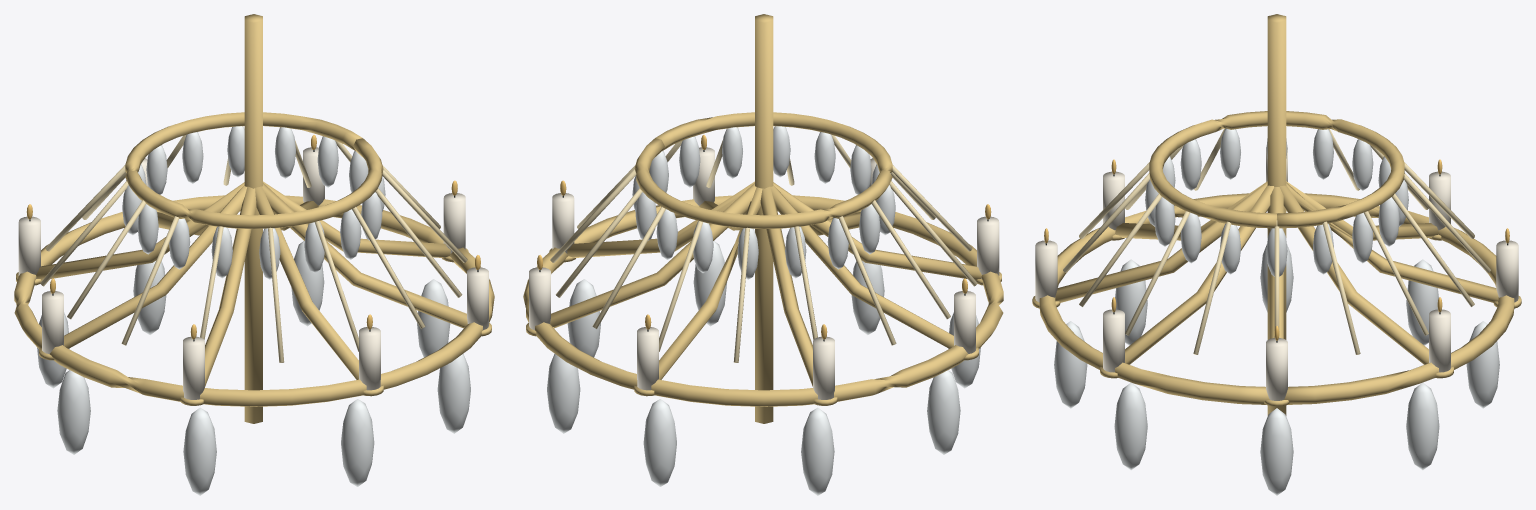
Rendered from crystal-chandelier.glb.
The picture shows the model from 3 angles, left to right: view 1: azimuth 30°, elevation 25°; view 2: azimuth 150°, elevation 25°; view 3: azimuth 270°, elevation 25°; orthographic projection.
Parts seen in each view (by area): view 1: frame-0, crystals-5, chains-6, wax-1, base-2, flame-4; view 2: frame-0, crystals-5, chains-6, wax-1, base-2, flame-4; view 3: frame-0, crystals-5, chains-6, wax-1, base-2.
Part boxes in pixels (x1,y1,x2,y2): frame-0: (14,14,494,423); crystals-5: (37,126,470,495); chains-6: (40,134,467,362); wax-1: (18,147,488,399); base-2: (16,248,491,405); flame-4: (26,135,480,339); frame-0: (523,14,1003,423); crystals-5: (547,126,980,495); chains-6: (550,134,977,362); wax-1: (529,147,999,399); base-2: (526,248,1001,405); flame-4: (537,135,991,339); frame-0: (1039,14,1514,415); crystals-5: (1054,128,1499,495); chains-6: (1063,128,1490,354); wax-1: (1035,147,1518,400); base-2: (1032,234,1521,406).
Bounding box in the file's own units: 1.61 × 1.45 × 1.61.
